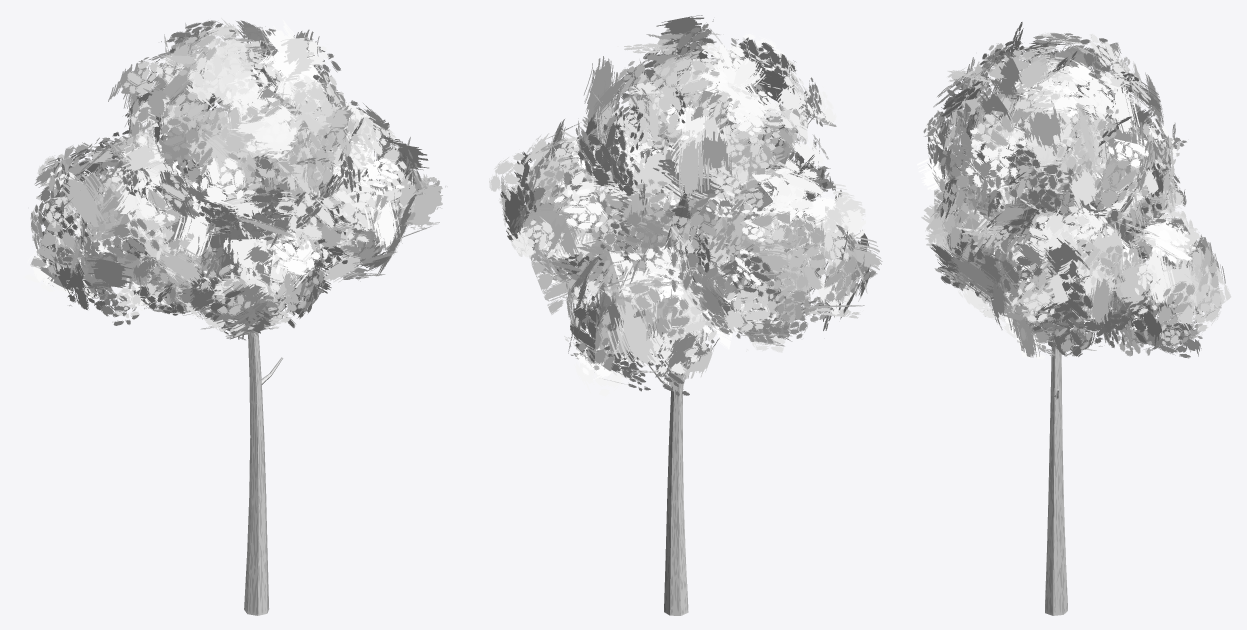
Rendered from stylized_tree_seed12.fbx.
3 views of the same model, side by side, from view 1: azimuth 30°, elevation 25°; view 2: azimuth 150°, elevation 25°; view 3: azimuth 270°, elevation 25° (orthographic). The views are drawn at different scales.
Visible parts, largest first — view 1: StylizedTree_Leaves.001, StylizedTree_Trunk.001; view 2: StylizedTree_Leaves.001, StylizedTree_Trunk.001; view 3: StylizedTree_Leaves.001, StylizedTree_Trunk.001.
Part boxes in pixels (x1,y1,x2,y2): StylizedTree_Leaves.001: [23, 18, 447, 340]; StylizedTree_Trunk.001: [136, 149, 282, 615]; StylizedTree_Leaves.001: [489, 15, 882, 400]; StylizedTree_Trunk.001: [649, 143, 728, 615]; StylizedTree_Leaves.001: [917, 22, 1231, 359]; StylizedTree_Trunk.001: [1045, 118, 1067, 615].
Bounding box in the file's own units: 5.56 × 8.1 × 4.15.
Materials: 2 (2 with a texture image).
